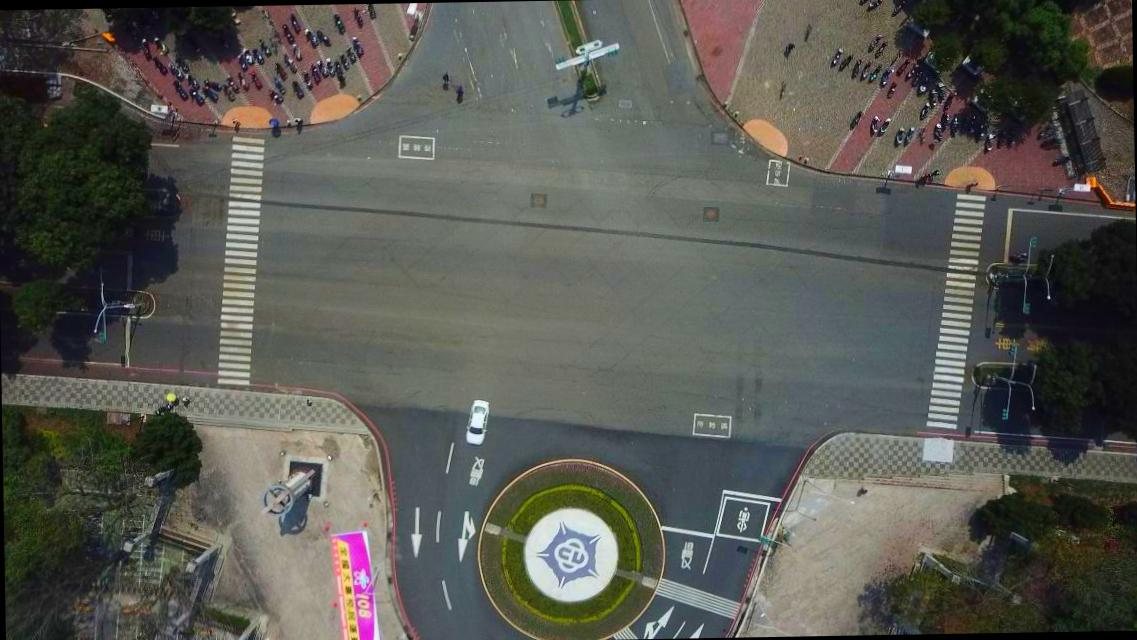vehicle: (464, 400, 492, 446)
